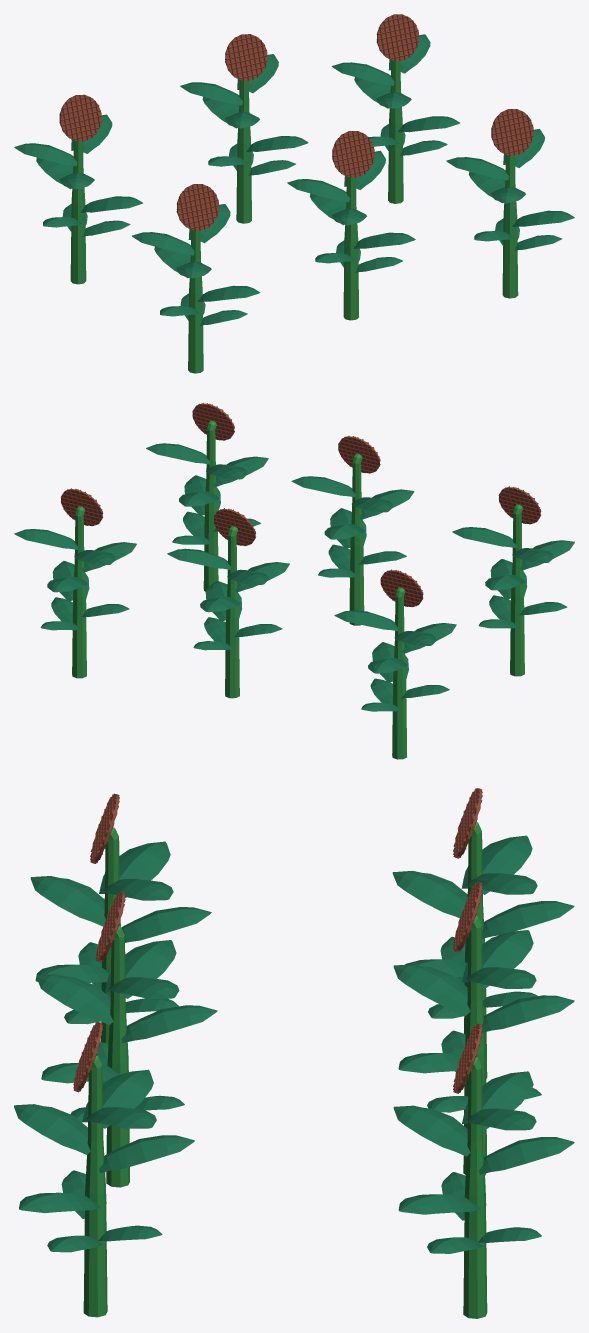
File: Grote Plantjes.fbx
3 views of the same model, one above another, from view 1: azimuth 30°, elevation 25°; view 2: azimuth 150°, elevation 25°; view 3: azimuth 270°, elevation 25° (orthographic). The views are drawn at different scales.
Parts seen in each view (by area): view 1: Plane.044; view 2: Plane.044; view 3: Plane.044.
Part boxes in pixels (x1,y1,x2,y2): Plane.044: (14,14,574,373); Plane.044: (14,402,574,759); Plane.044: (14,788,574,1318).
Size of the model in its own units: 1.94 by 0.9378 by 1.47.
